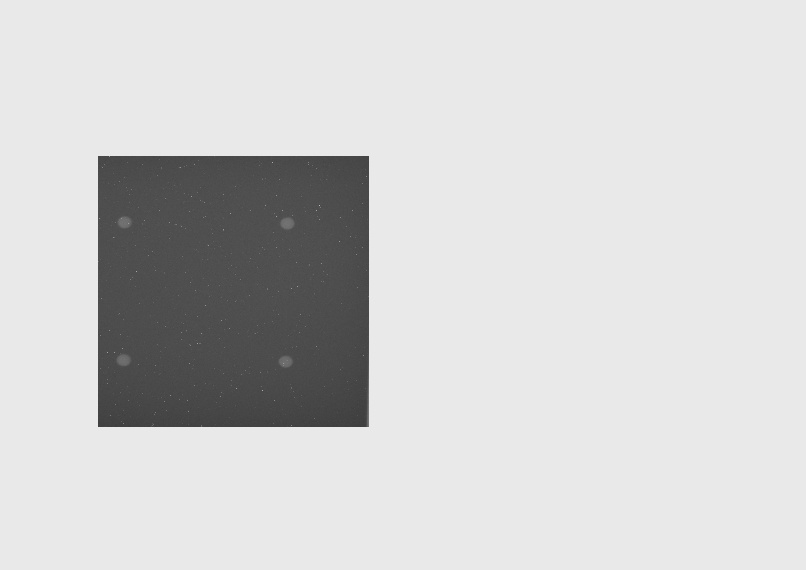bubble: (116, 215, 132, 228), (115, 353, 131, 366), (279, 354, 293, 368), (279, 216, 294, 229)
